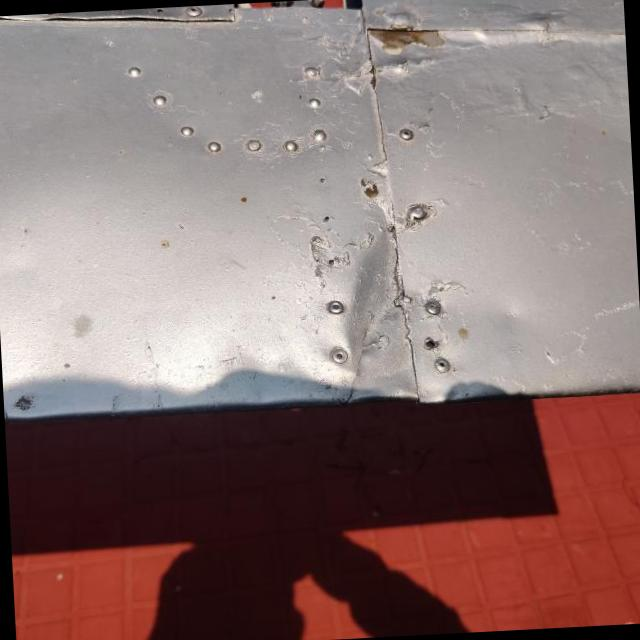Crack: (337, 383, 359, 406)
Paint-off: (369, 29, 445, 54), (360, 162, 388, 206)
